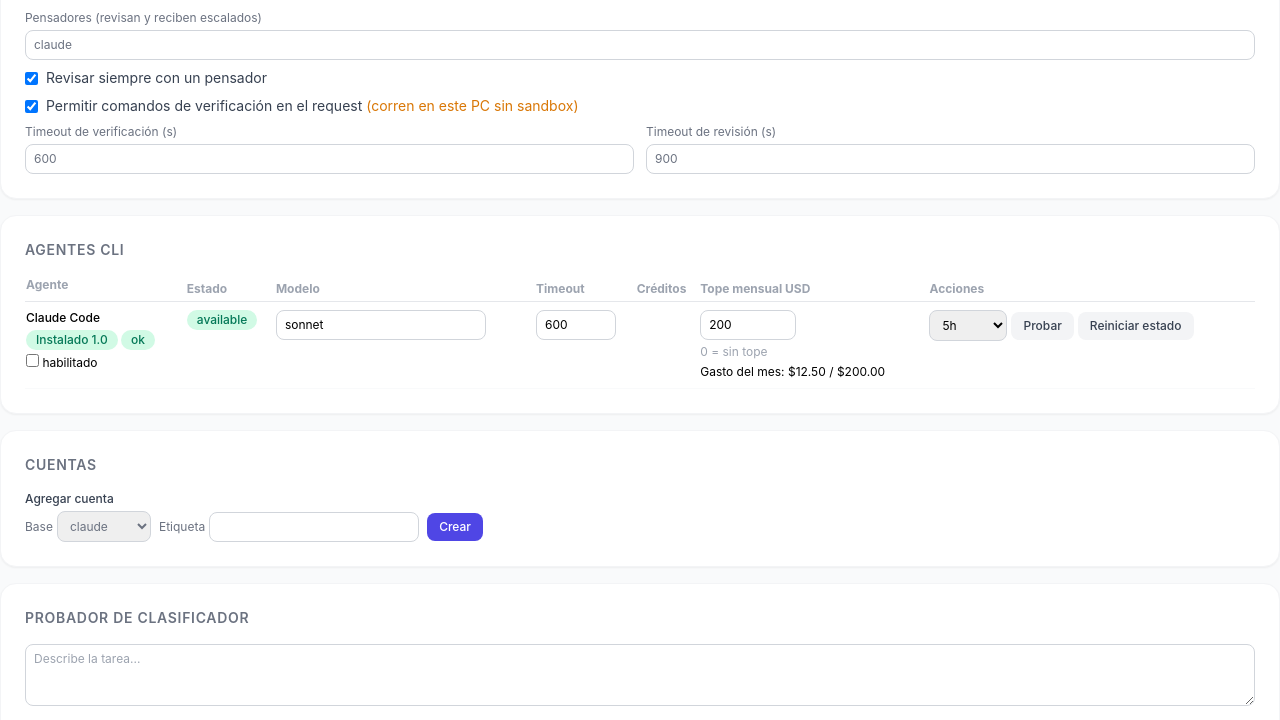
Test: Agents › muestra la barra al marcar habilitado
(page scrolled)
expect the text "Cambios sin guardar" is not shown: met
Click the checkbox labelled "habilitado" at [32, 360], box [26,354,39,367]
(page scrolled)
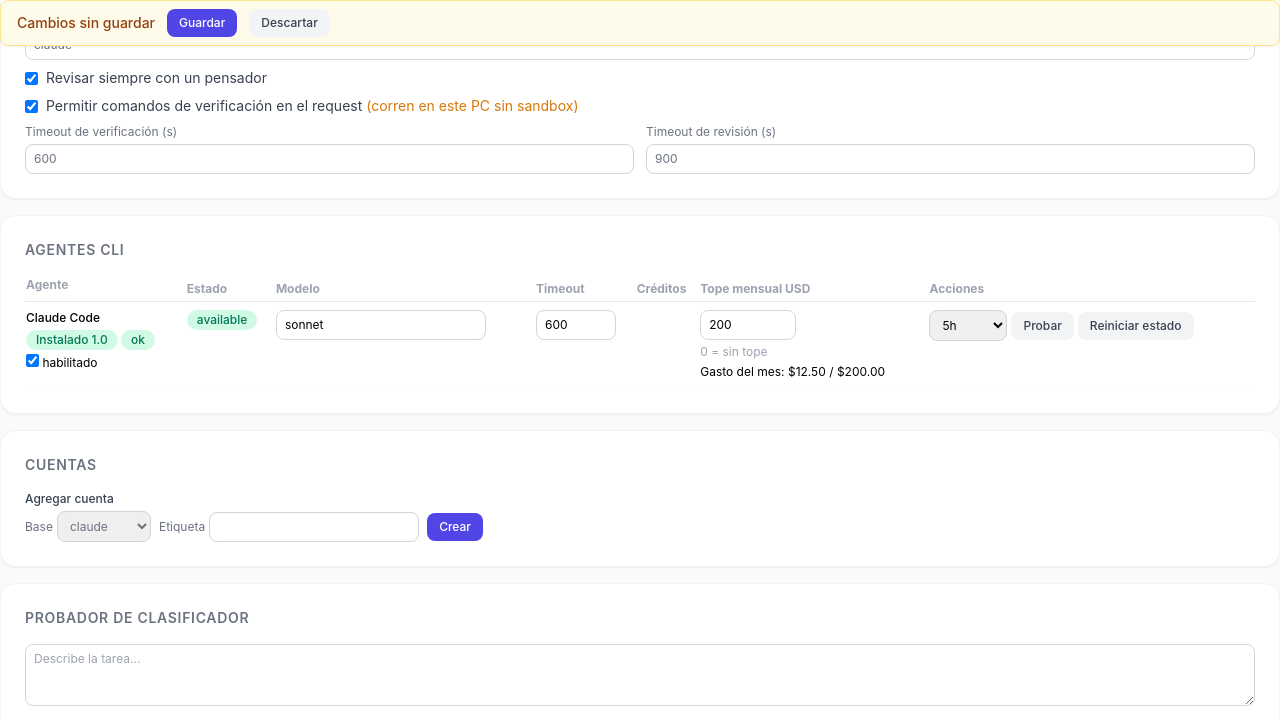
expect the text "Cambios sin guardar" is shown: met, box [17,13,155,33]
expect the button "Guardar" is shown: met, box [167,9,237,37]
expect the button "Descartar" is shown: met, box [249,9,330,37]
